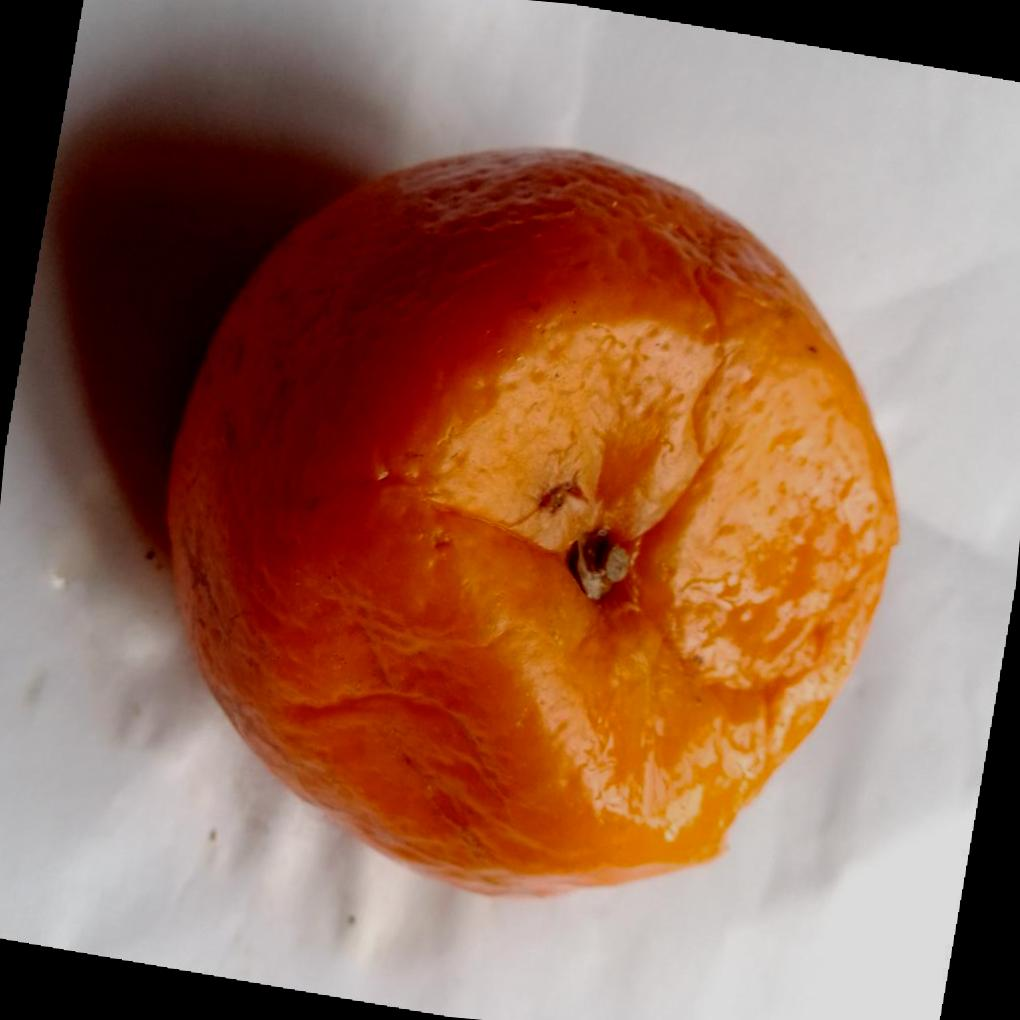FreshOrange: (157, 144, 899, 899)
